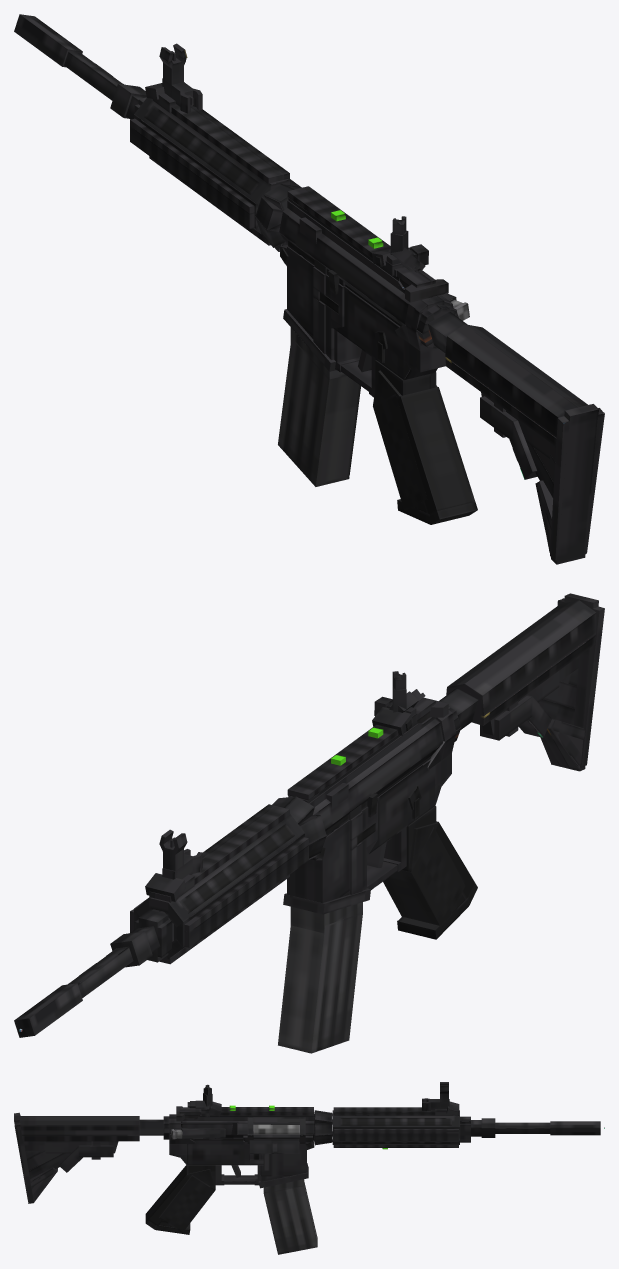
The picture shows the model from 3 angles, top to bottom: view 1: azimuth 30°, elevation 25°; view 2: azimuth 150°, elevation 25°; view 3: azimuth 270°, elevation 25°; orthographic projection. The views are drawn at different scales.
Visible parts, largest first — view 1: bone9_2, stock, magazine_2, rearsightflipped_8, frontsight_6; view 2: bone9_2, stock, magazine_2, rearsightflipped_8, frontsight_6; view 3: bone9_2, stock, magazine_2, rearsightflipped_8, bolt_1, frontsight_6.
Boxes of the visible parts, x1,y1,x2,y2 form: bone9_2: (14,14,477,524); stock: (445,324,604,564); magazine_2: (278,327,360,486); rearsightflipped_8: (372,216,428,275); frontsight_6: (159,43,202,113); bone9_2: (14,688,478,1037); stock: (446,593,604,771); magazine_2: (278,902,362,1053); rearsightflipped_8: (372,671,425,735); frontsight_6: (159,829,202,879); bone9_2: (139,1101,600,1234); stock: (14,1112,139,1203); magazine_2: (263,1179,317,1254); rearsightflipped_8: (187,1084,221,1116); bolt_1: (253,1124,299,1134); frontsight_6: (422,1082,449,1111).
Size of the model in its own units: 0.4363 by 1.98 by 6.37.
